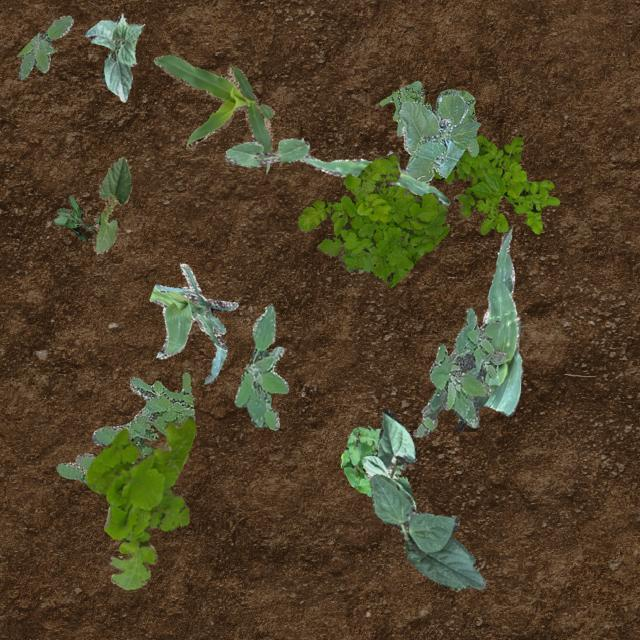crop: (152, 54, 274, 170), (454, 226, 522, 430), (368, 474, 484, 590), (148, 262, 236, 382), (298, 153, 448, 204), (396, 92, 479, 180), (360, 408, 416, 510), (84, 12, 142, 100), (90, 156, 130, 254), (224, 138, 308, 166)
weed: (296, 152, 448, 286), (84, 416, 196, 588), (55, 372, 194, 482), (432, 134, 558, 234), (411, 306, 505, 436), (378, 80, 478, 156), (234, 304, 288, 430), (339, 424, 406, 496), (16, 15, 72, 78), (52, 194, 100, 240)
